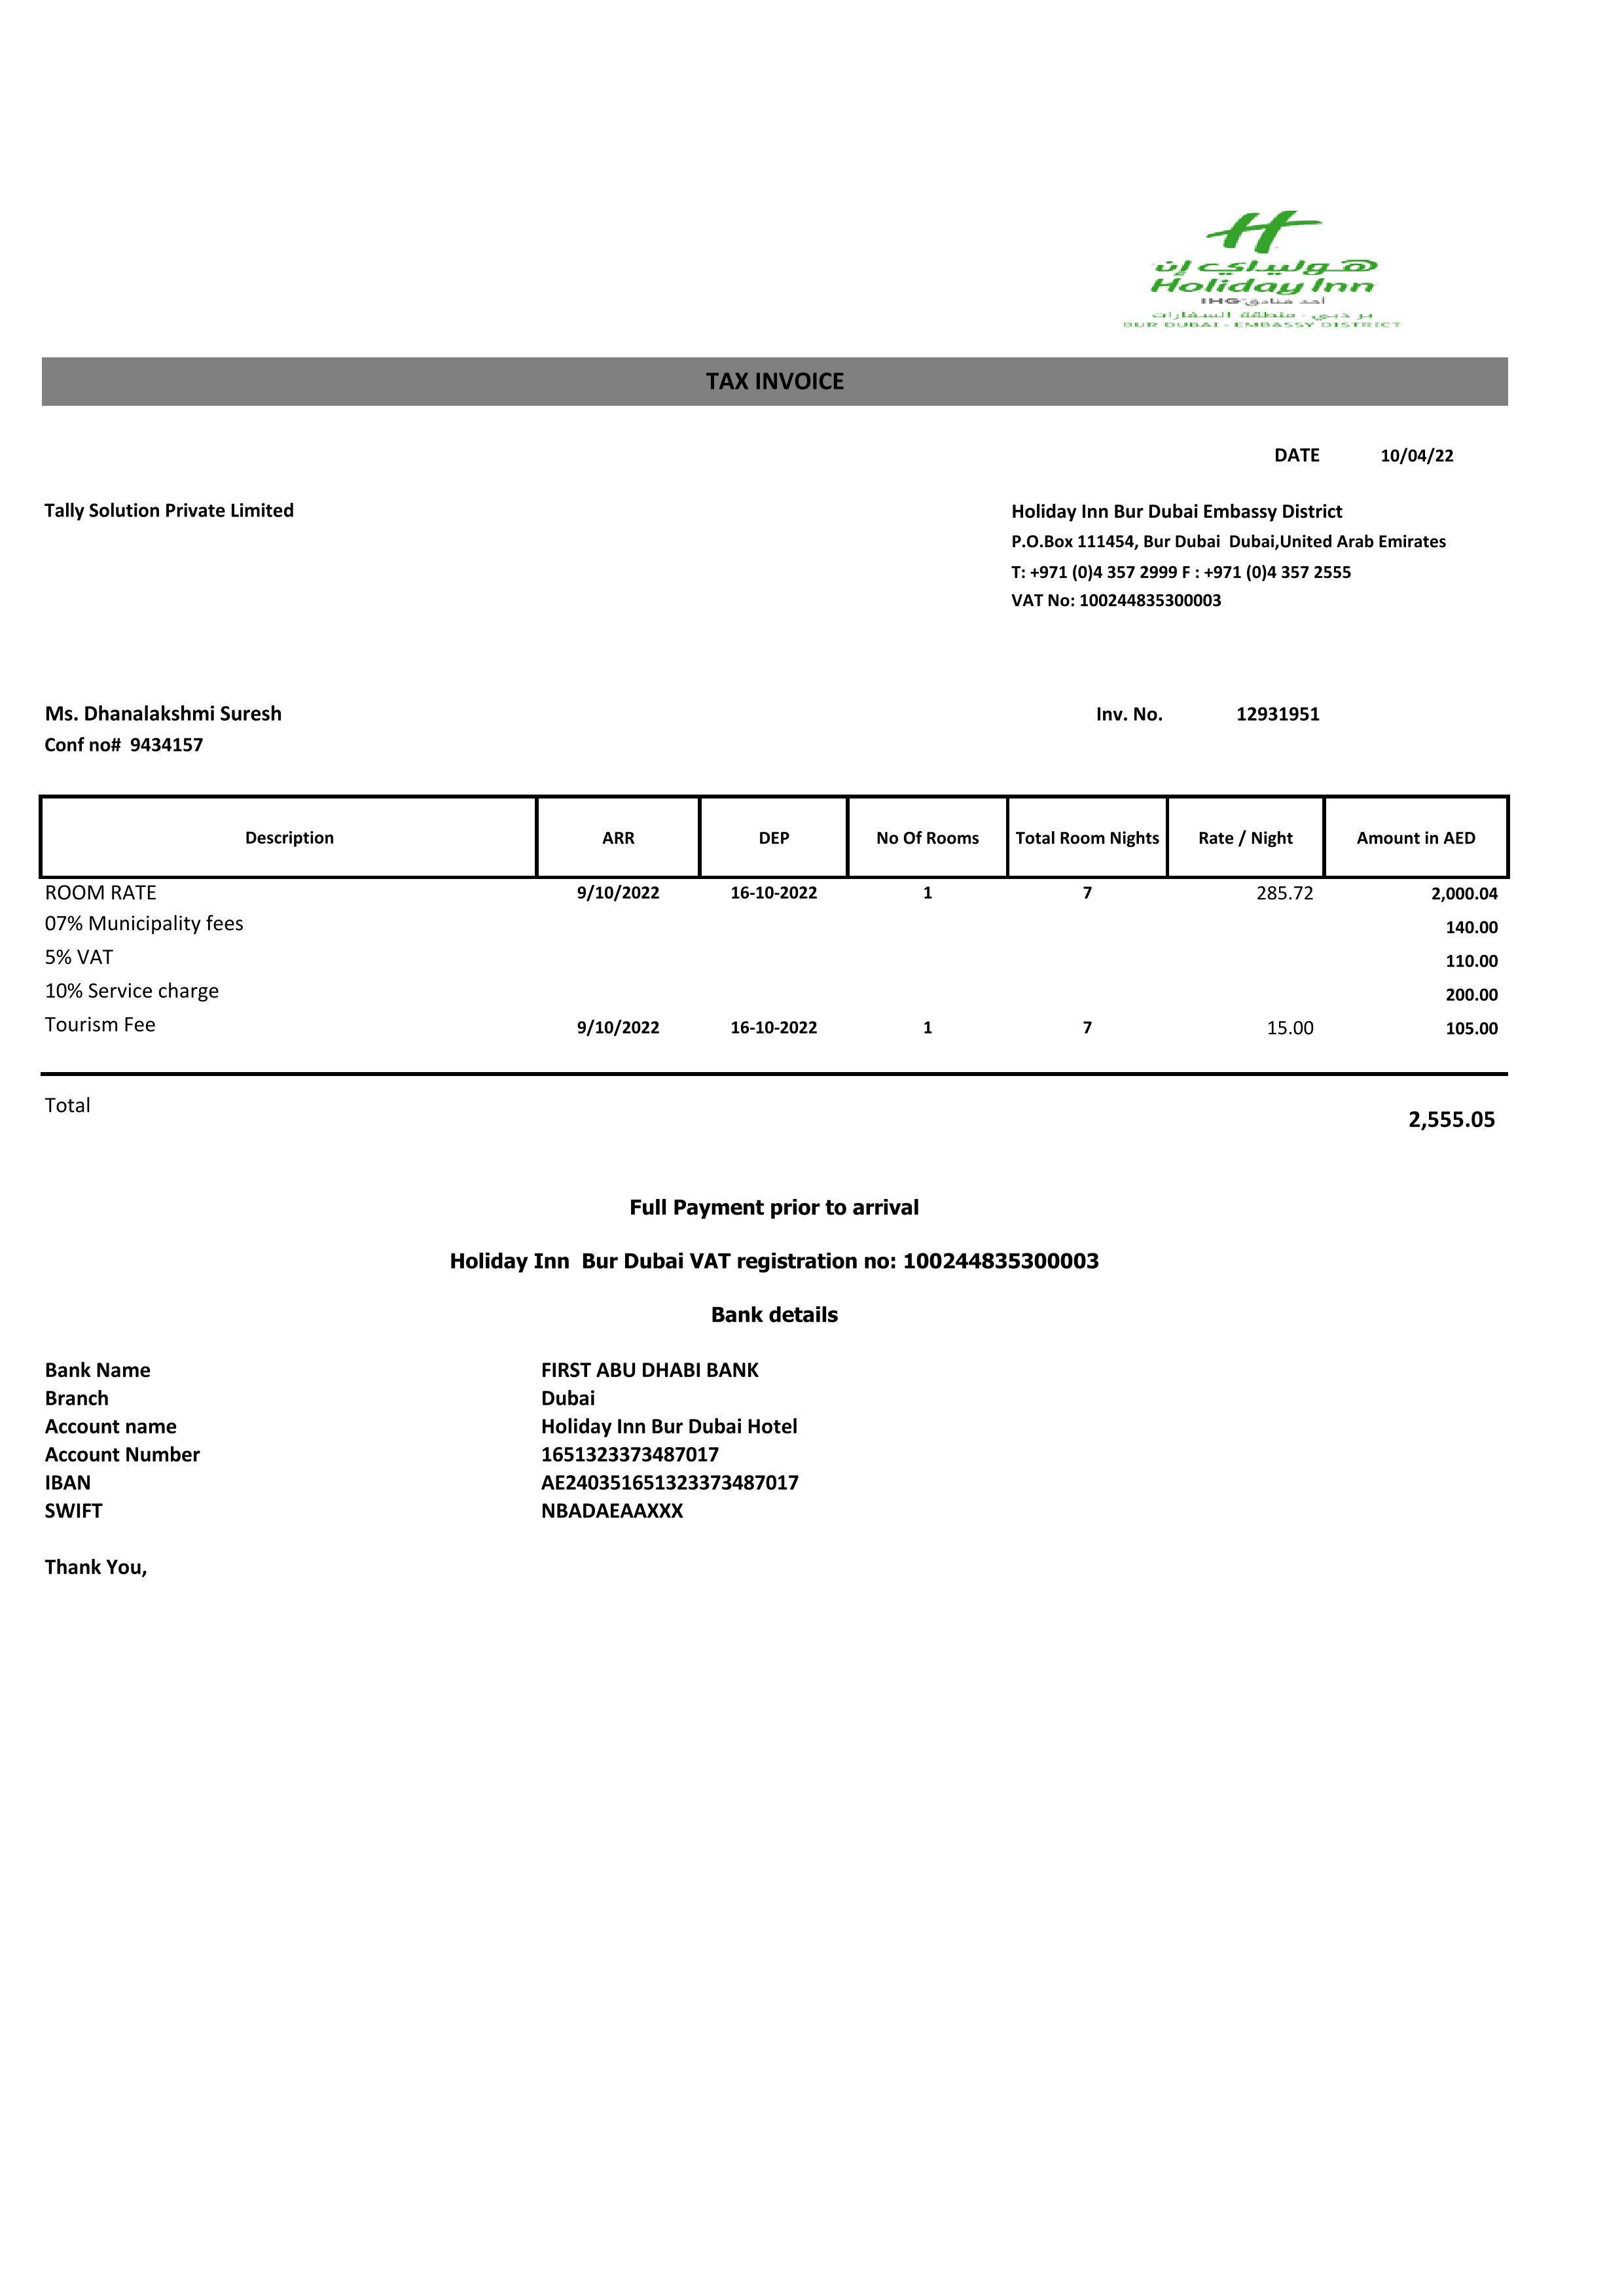InvoiceDate: (1373, 439, 1468, 473)
InvoiceNumber: (1232, 696, 1334, 733)
TotalAmount: (1399, 1100, 1504, 1130)
